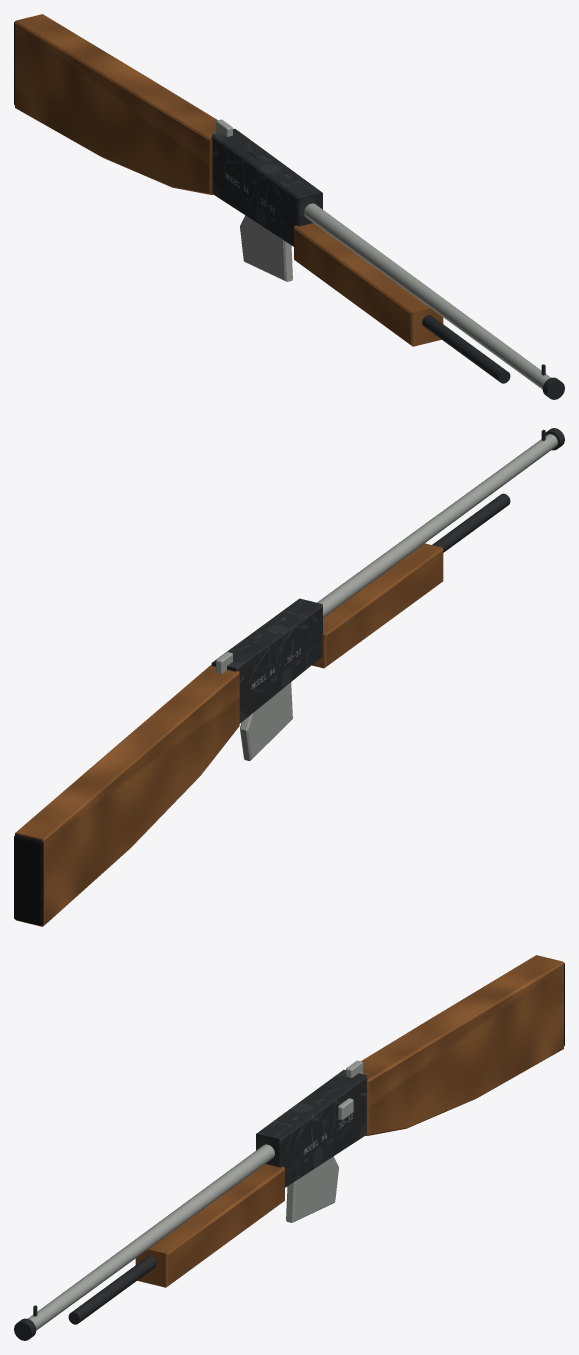
File: 10-fusil-a-levier.glb
3 renders of one model, top to bottom at view 1: azimuth 30°, elevation 25°; view 2: azimuth 150°, elevation 25°; view 3: azimuth 330°, elevation 25°, orthographic.
Bounding box in the file's own units: 0.0502 × 0.1763 × 1.36.
6 materials, 3 textured.
